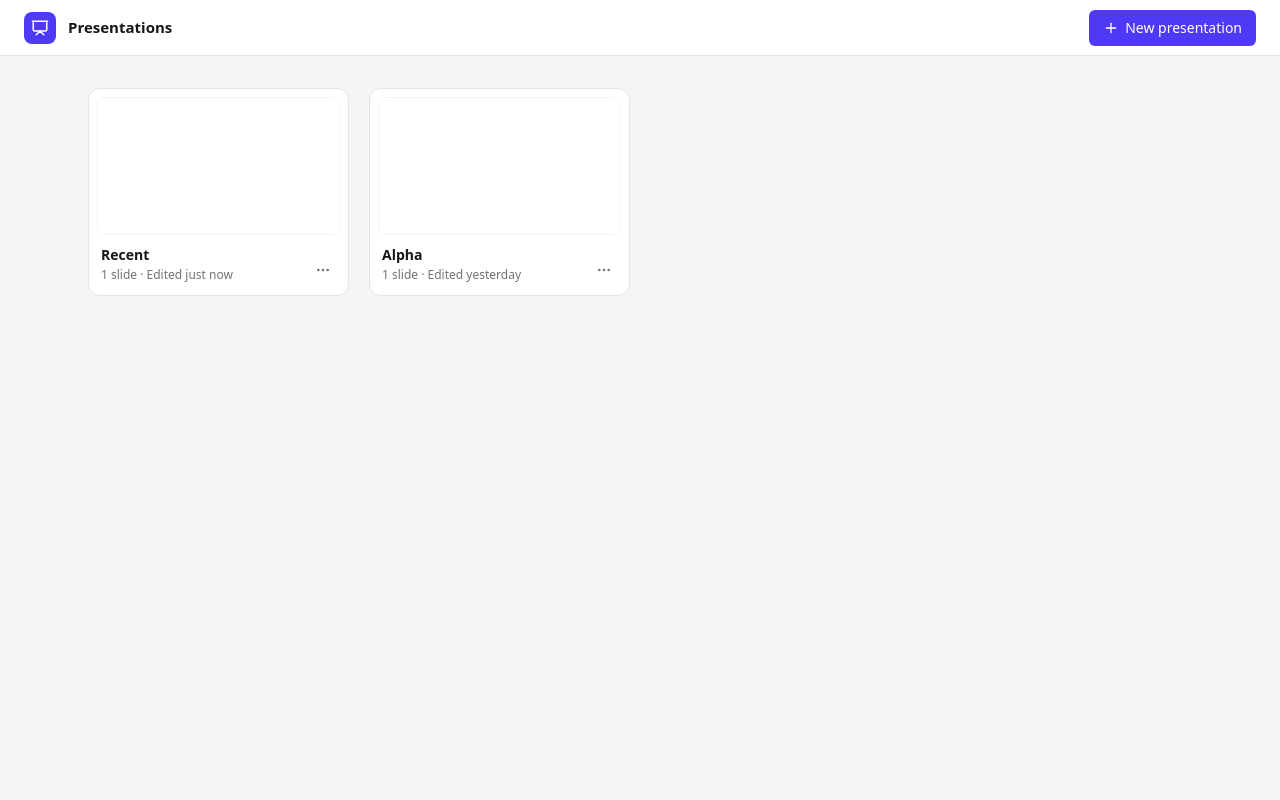
Test case: Dashboard › rename › renames from the card menu (trimmed) and moves the deck to the top
The width and height of the screenshot is (1280, 800).
Click the button named "Alpha actions".
click(604, 270)  # box [590,256,618,284]
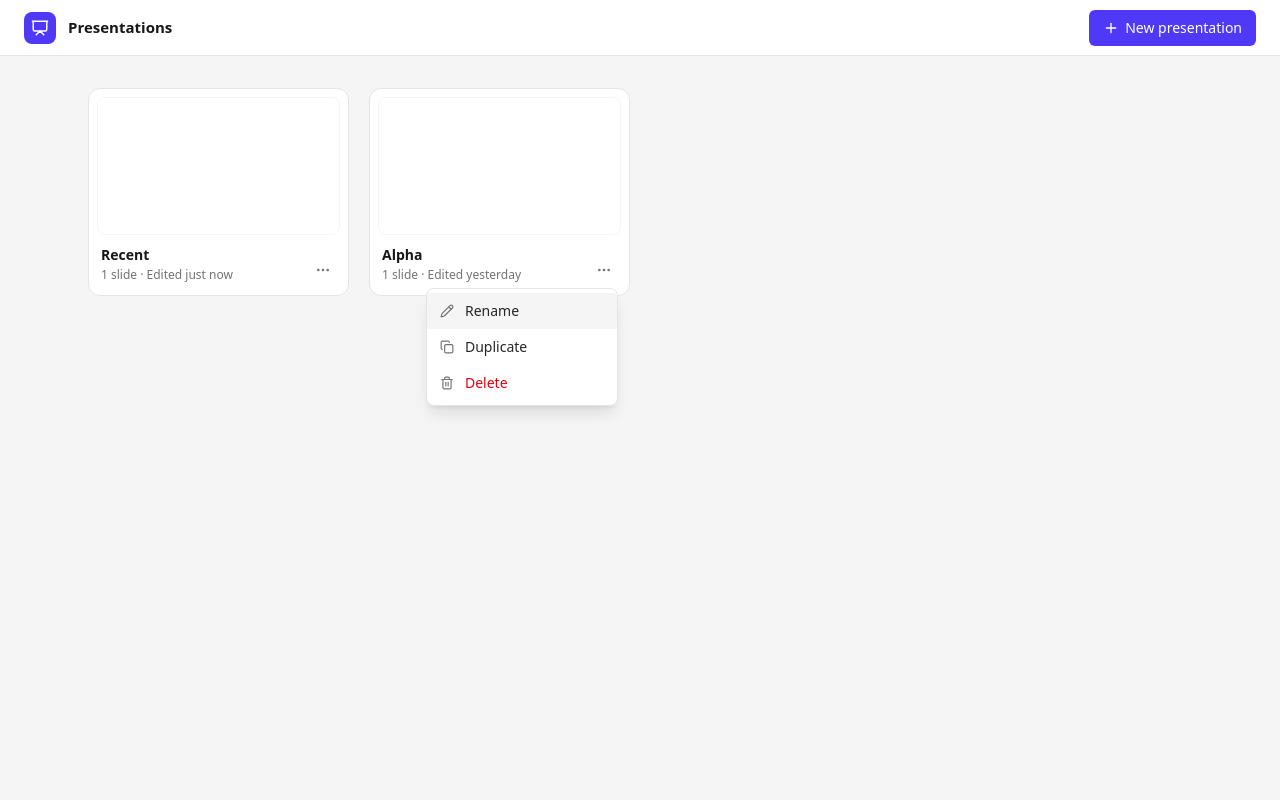
Click the menu item "Rename".
click(522, 311)  # box [427,293,617,329]
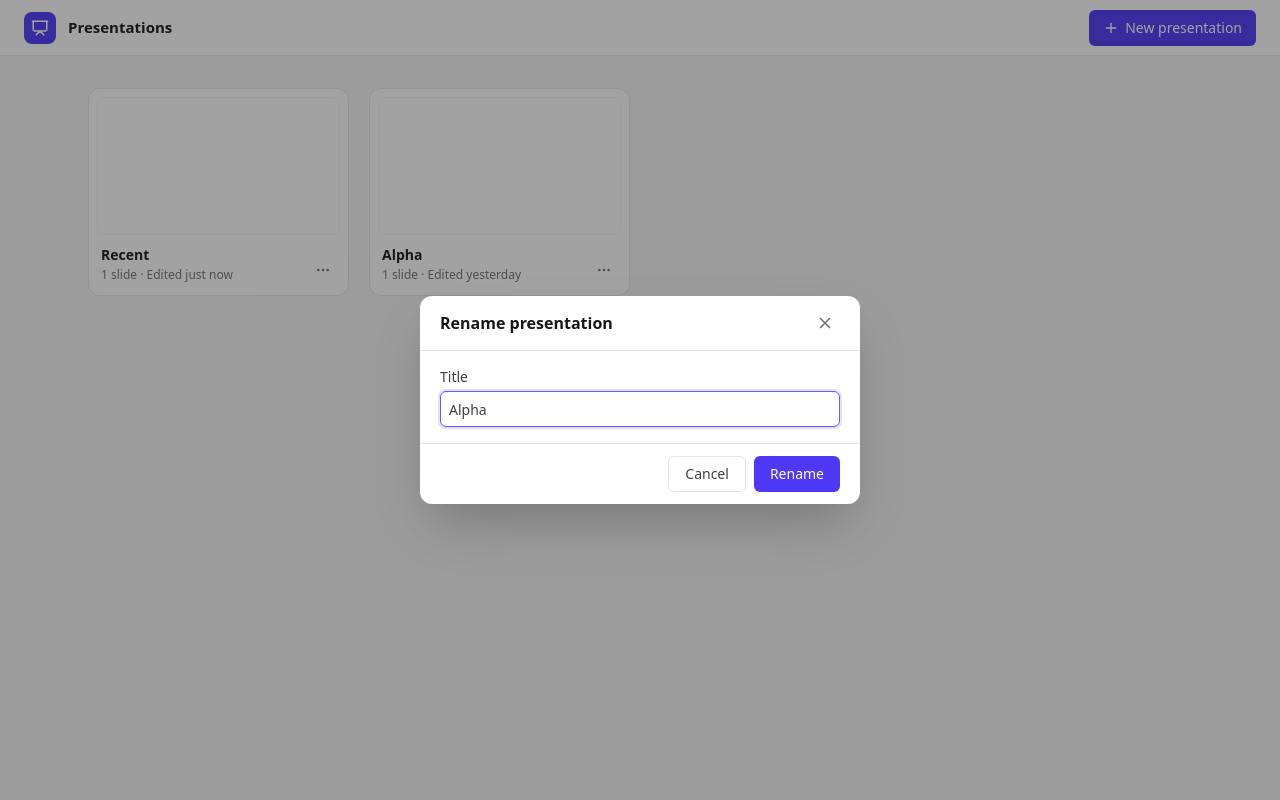
Check: the field labelled "Title" holds "Alpha"
Replace the text in the field labelled "Title" with "  Beta  " at (640, 409), box [440,391,840,427]
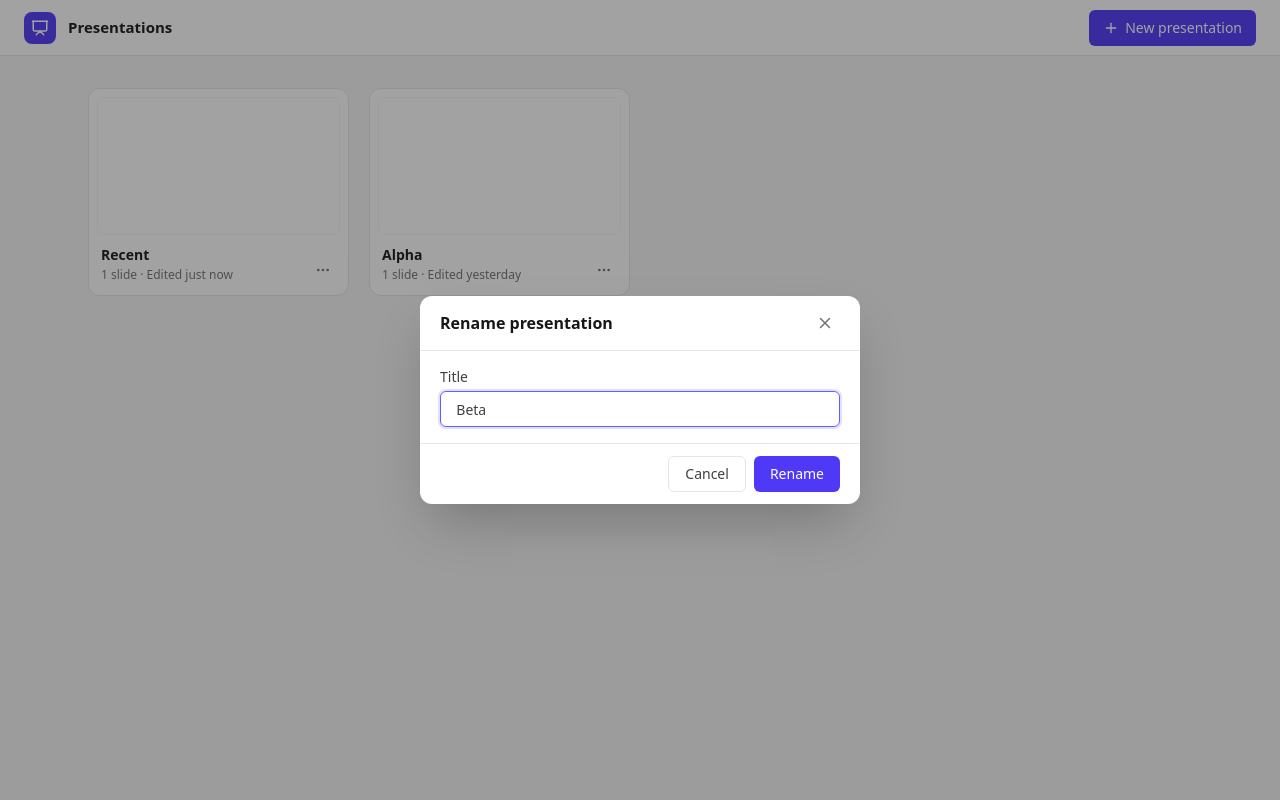
Click the button "Rename".
click(797, 474)  # box [754,456,840,492]
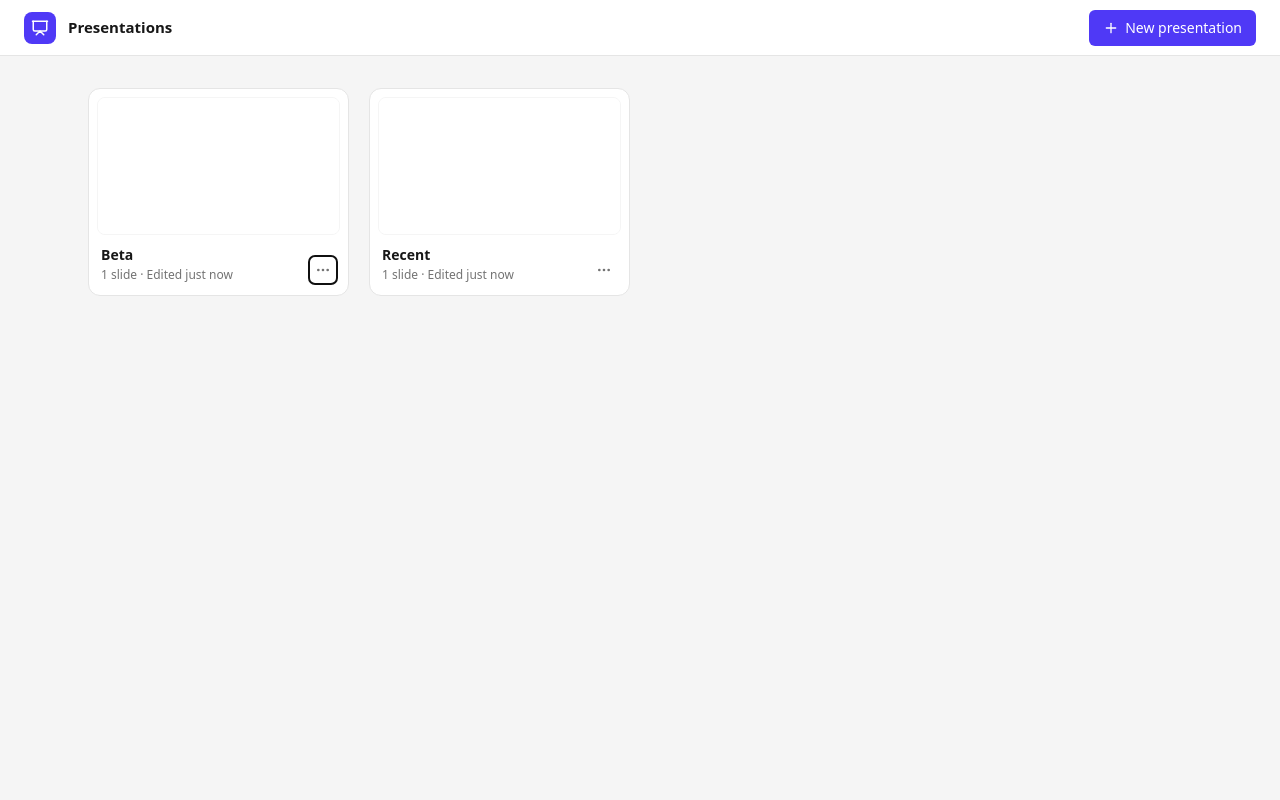
Check: the dialog is gone
